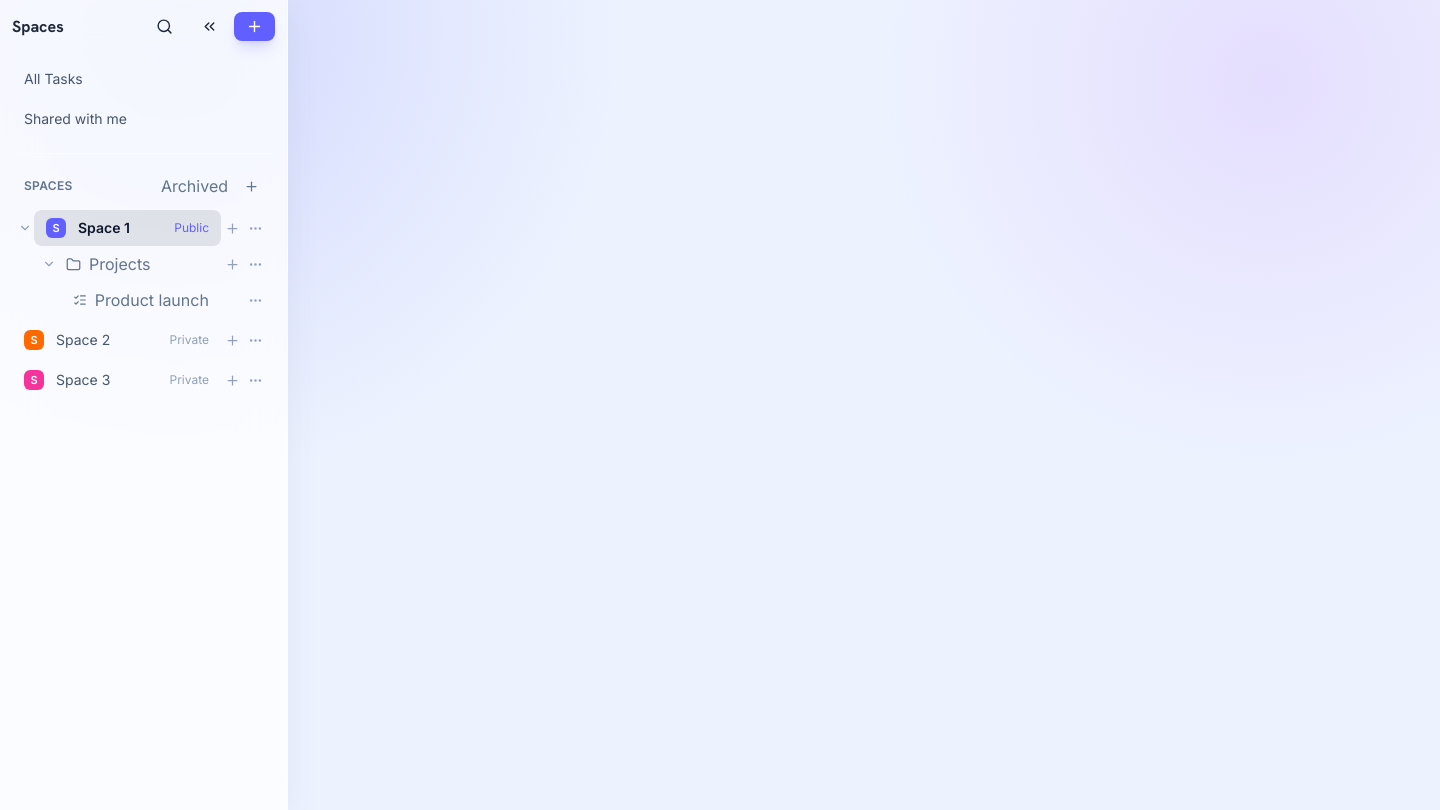
Test: ContextSidebar › keeps the global Create menu focused on local workspace items
What coordinates should you click on to do the following:
click the button named "Create space"
I would click on:
 (254, 26)
Its box is [234, 12, 275, 41].
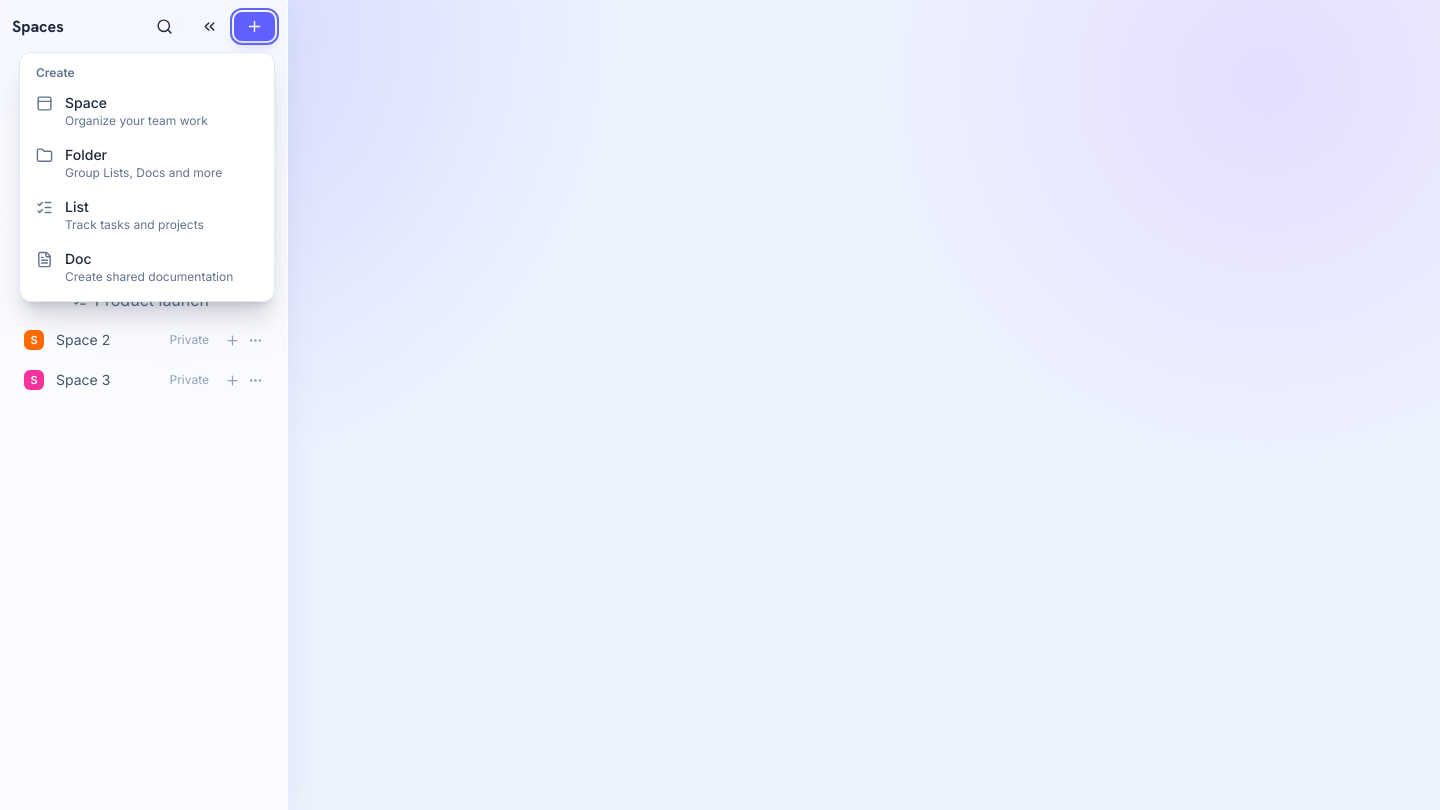
Expected: the menu item named "SpaceOrganize your team work" is shown, [28, 85, 266, 137]
Expected: the menu item named "FolderGroup Lists, Docs and more" is shown, [28, 137, 266, 189]
Expected: the menu item named "ListTrack tasks and projects" is shown, [28, 189, 266, 241]
